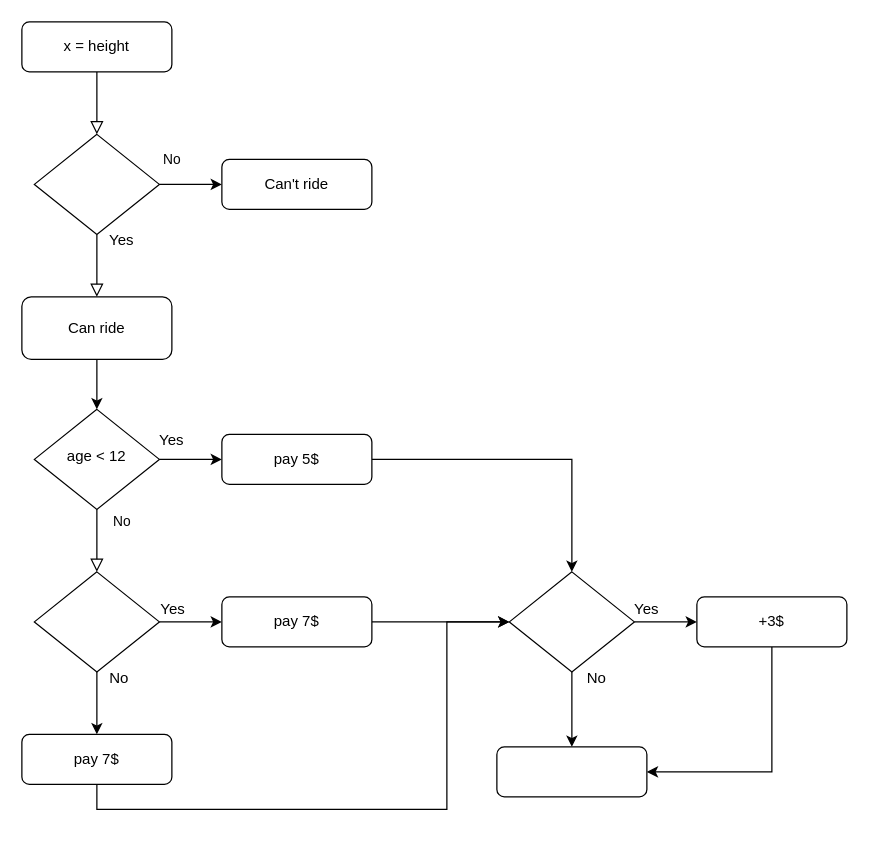
Some shapes in this 869 by 841 pixel diagram are drawn without their labels. Each missing label, with the centre of its shape:
"age < =18" goes at [96,621].
"Photos?" goes at [571,621].
"Total bill" goes at [571,771].
"x >= 120" goes at [96,183].
